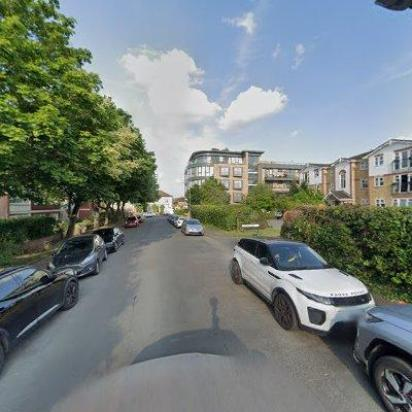stationary-car-onstreet: (230, 236, 378, 344), (0, 264, 82, 378), (354, 296, 412, 412), (46, 233, 110, 279), (88, 225, 126, 253), (181, 219, 207, 237), (124, 216, 140, 228), (172, 215, 186, 228)
